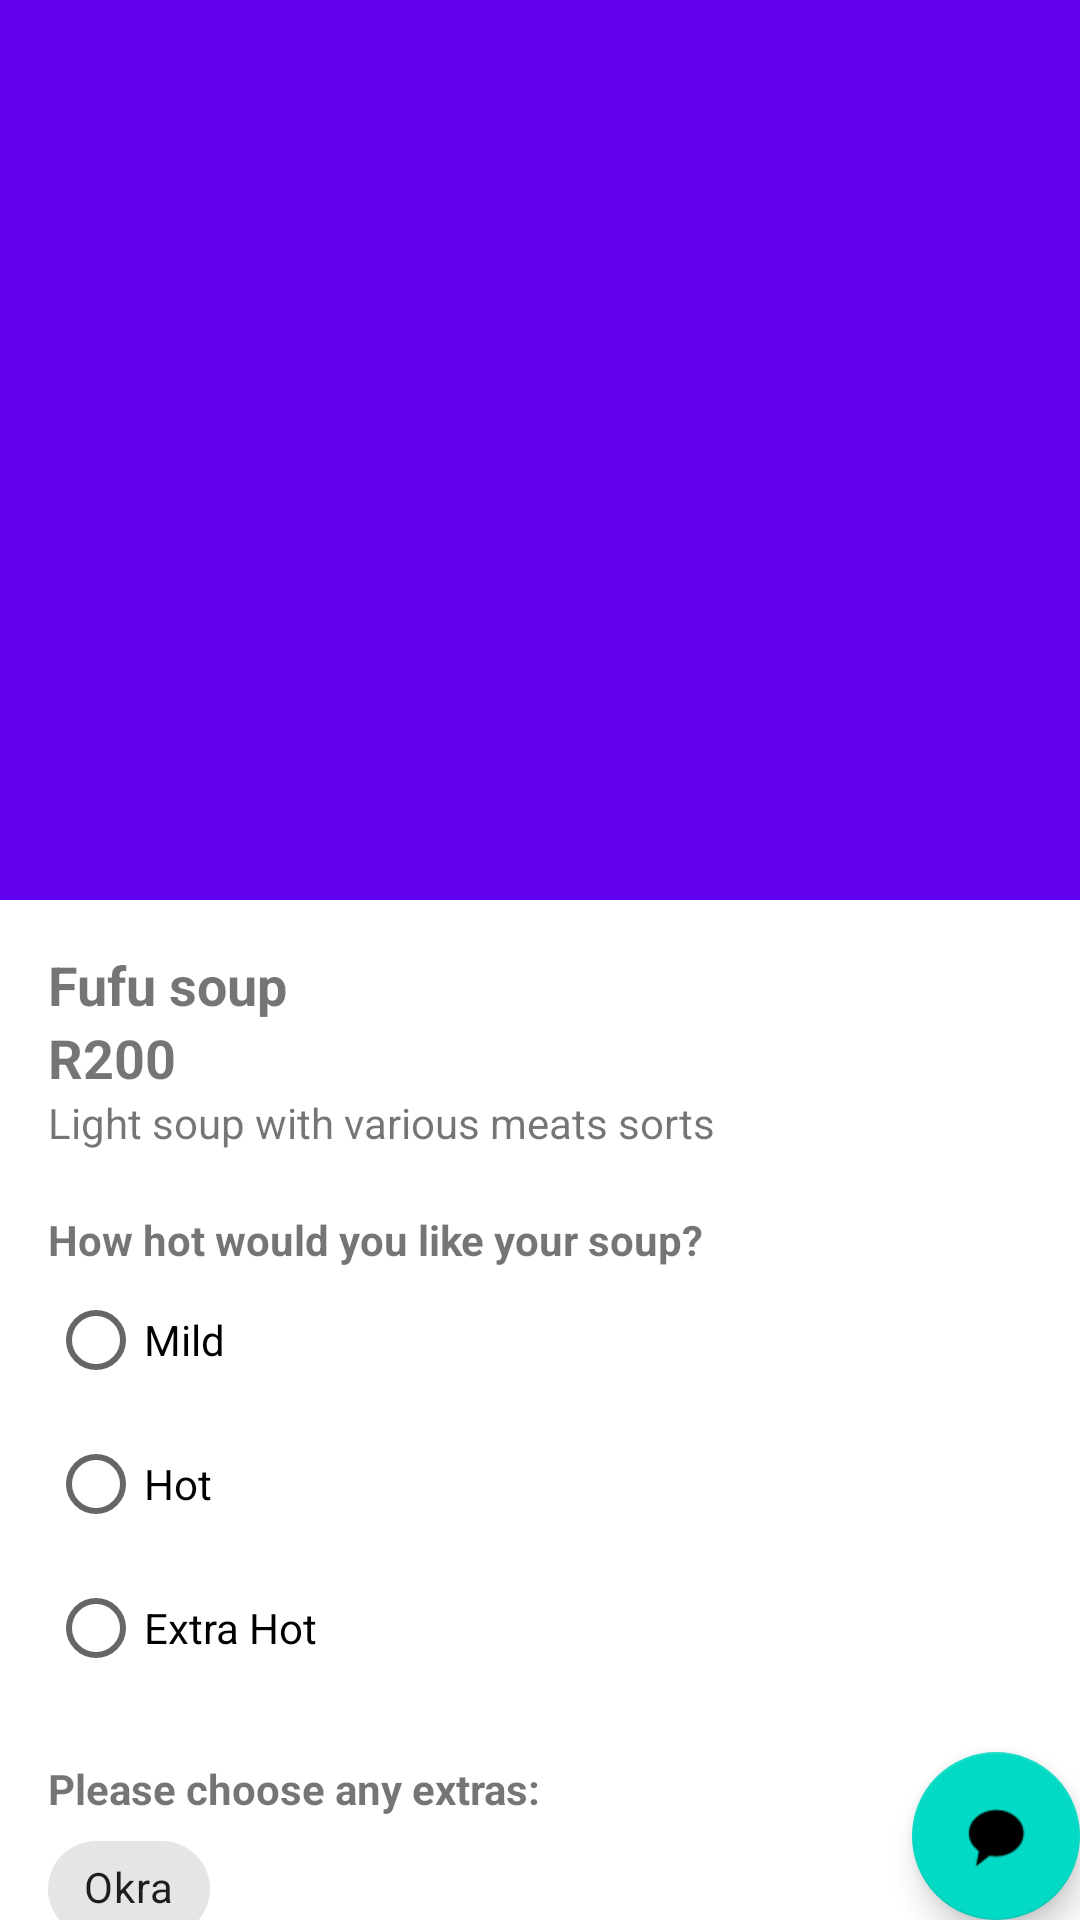

Icons on this 1080px×1920px Android screen, each with the point to tap as point (x, y):
sym action chat: point (996, 1836)
